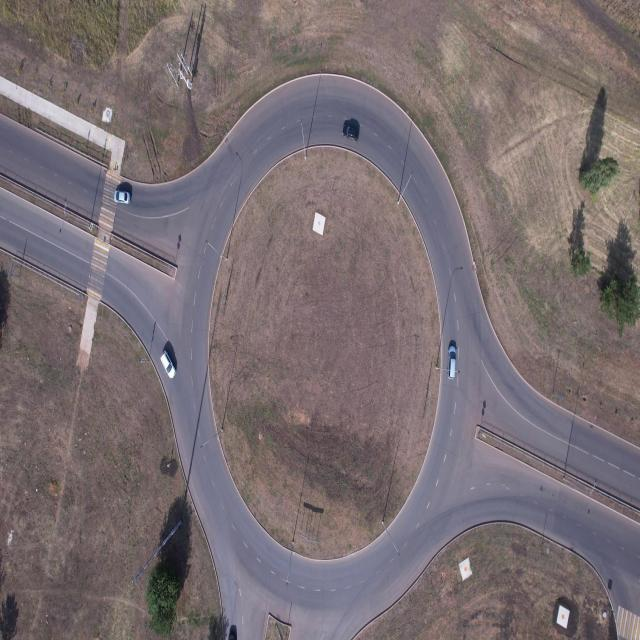Car: (152, 337, 188, 390), (331, 110, 375, 150), (102, 181, 148, 216), (440, 332, 467, 386)
